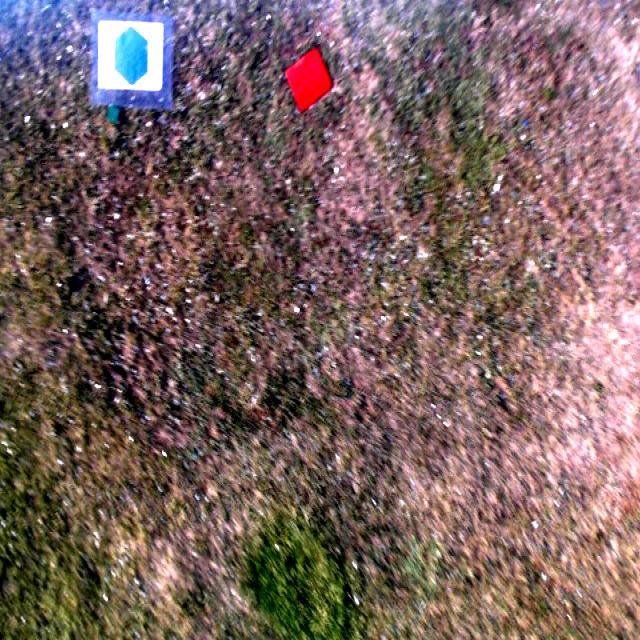blue_hexagon: (113, 27, 148, 85)
red_square: (286, 48, 334, 114)
